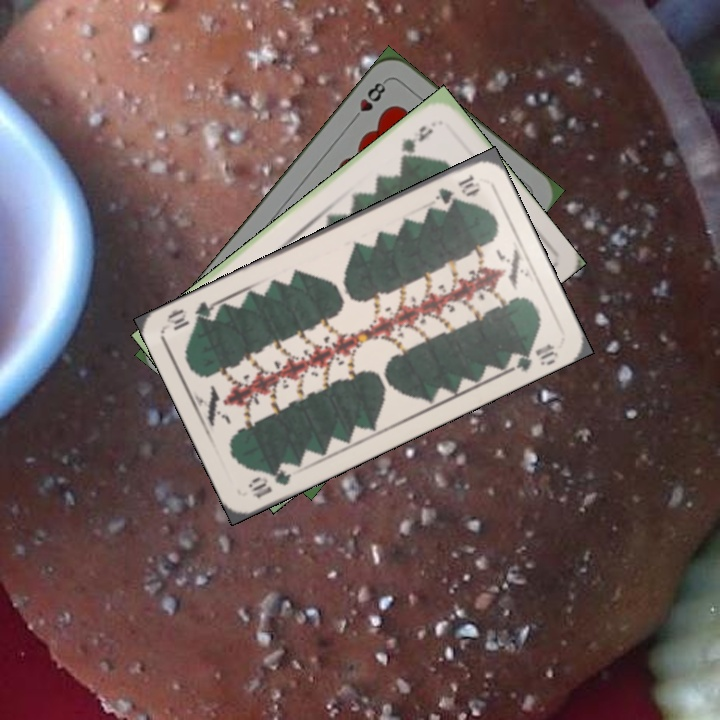G10: (431, 169, 484, 207), (244, 462, 294, 501)
G9: (396, 121, 437, 162)
H8: (347, 76, 389, 125)
